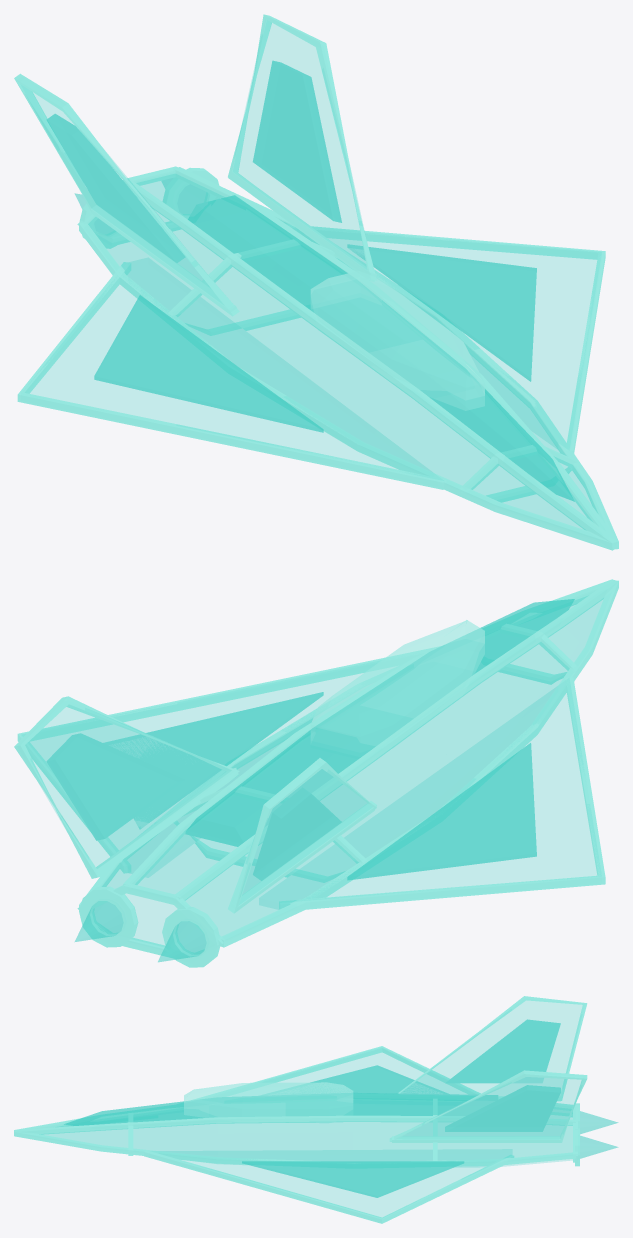
The model's file is decoy_wreck.glb.
3 renders of one model, top to bottom at view 1: azimuth 30°, elevation 25°; view 2: azimuth 150°, elevation 25°; view 3: azimuth 270°, elevation 25°, orthographic. The views are drawn at different scales.
Visible parts, largest first — view 1: decoy_wreck_02, decoy_wreck_07, decoy_wreck_11, decoy_wreck_01, decoy_wreck_03, decoy_wreck_05, decoy_wreck_10, decoy_wreck_08, decoy_wreck_04, decoy_wreck_06, decoy_wreck_00, decoy_wreck_09; view 2: decoy_wreck_03, decoy_wreck_02, decoy_wreck_11, decoy_wreck_07, decoy_wreck_05, decoy_wreck_10, decoy_wreck_08, decoy_wreck_01, decoy_wreck_04, decoy_wreck_00, decoy_wreck_06, decoy_wreck_09; view 3: decoy_wreck_05, decoy_wreck_10, decoy_wreck_02, decoy_wreck_03, decoy_wreck_00, decoy_wreck_01, decoy_wreck_08, decoy_wreck_06, decoy_wreck_04, decoy_wreck_11, decoy_wreck_07, decoy_wreck_09.
Part boxes in pixels (x1,y1,x2,y2): decoy_wreck_02: (78, 175, 361, 336); decoy_wreck_07: (174, 301, 442, 480); decoy_wreck_11: (117, 274, 380, 420); decoy_wreck_01: (400, 346, 595, 511); decoy_wreck_03: (74, 72, 405, 257); decoy_wreck_05: (337, 222, 573, 356); decoy_wreck_10: (380, 294, 593, 427); decoy_wreck_08: (253, 14, 355, 208); decoy_wreck_04: (17, 319, 176, 434); decoy_wreck_06: (403, 234, 605, 331); decoy_wreck_00: (14, 73, 129, 264); decoy_wreck_09: (494, 469, 618, 550); decoy_wreck_03: (44, 791, 274, 967); decoy_wreck_02: (152, 733, 426, 920); decoy_wreck_11: (327, 684, 567, 873); decoy_wreck_07: (380, 638, 593, 810); decoy_wreck_05: (132, 680, 373, 836); decoy_wreck_10: (176, 633, 442, 738); decoy_wreck_08: (14, 696, 173, 794); decoy_wreck_01: (378, 601, 592, 705); decoy_wreck_04: (419, 803, 605, 900); decoy_wreck_00: (228, 758, 340, 932); decoy_wreck_06: (17, 701, 177, 821); decoy_wreck_09: (529, 579, 618, 654); decoy_wreck_05: (298, 1090, 455, 1192); decoy_wreck_10: (180, 1089, 302, 1198); decoy_wreck_02: (356, 1031, 515, 1165); decoy_wreck_03: (453, 1099, 618, 1184); decoy_wreck_00: (479, 996, 587, 1101); decoy_wreck_01: (91, 1086, 224, 1166); decoy_wreck_08: (440, 1070, 587, 1131); decoy_wreck_06: (293, 1179, 463, 1223); decoy_wreck_04: (294, 1046, 453, 1086); decoy_wreck_11: (299, 1075, 427, 1110); decoy_wreck_07: (179, 1071, 299, 1110); decoy_wreck_09: (14, 1114, 99, 1149).
Size of the model in its own units: 4.25 by 1.37 by 6.26.
